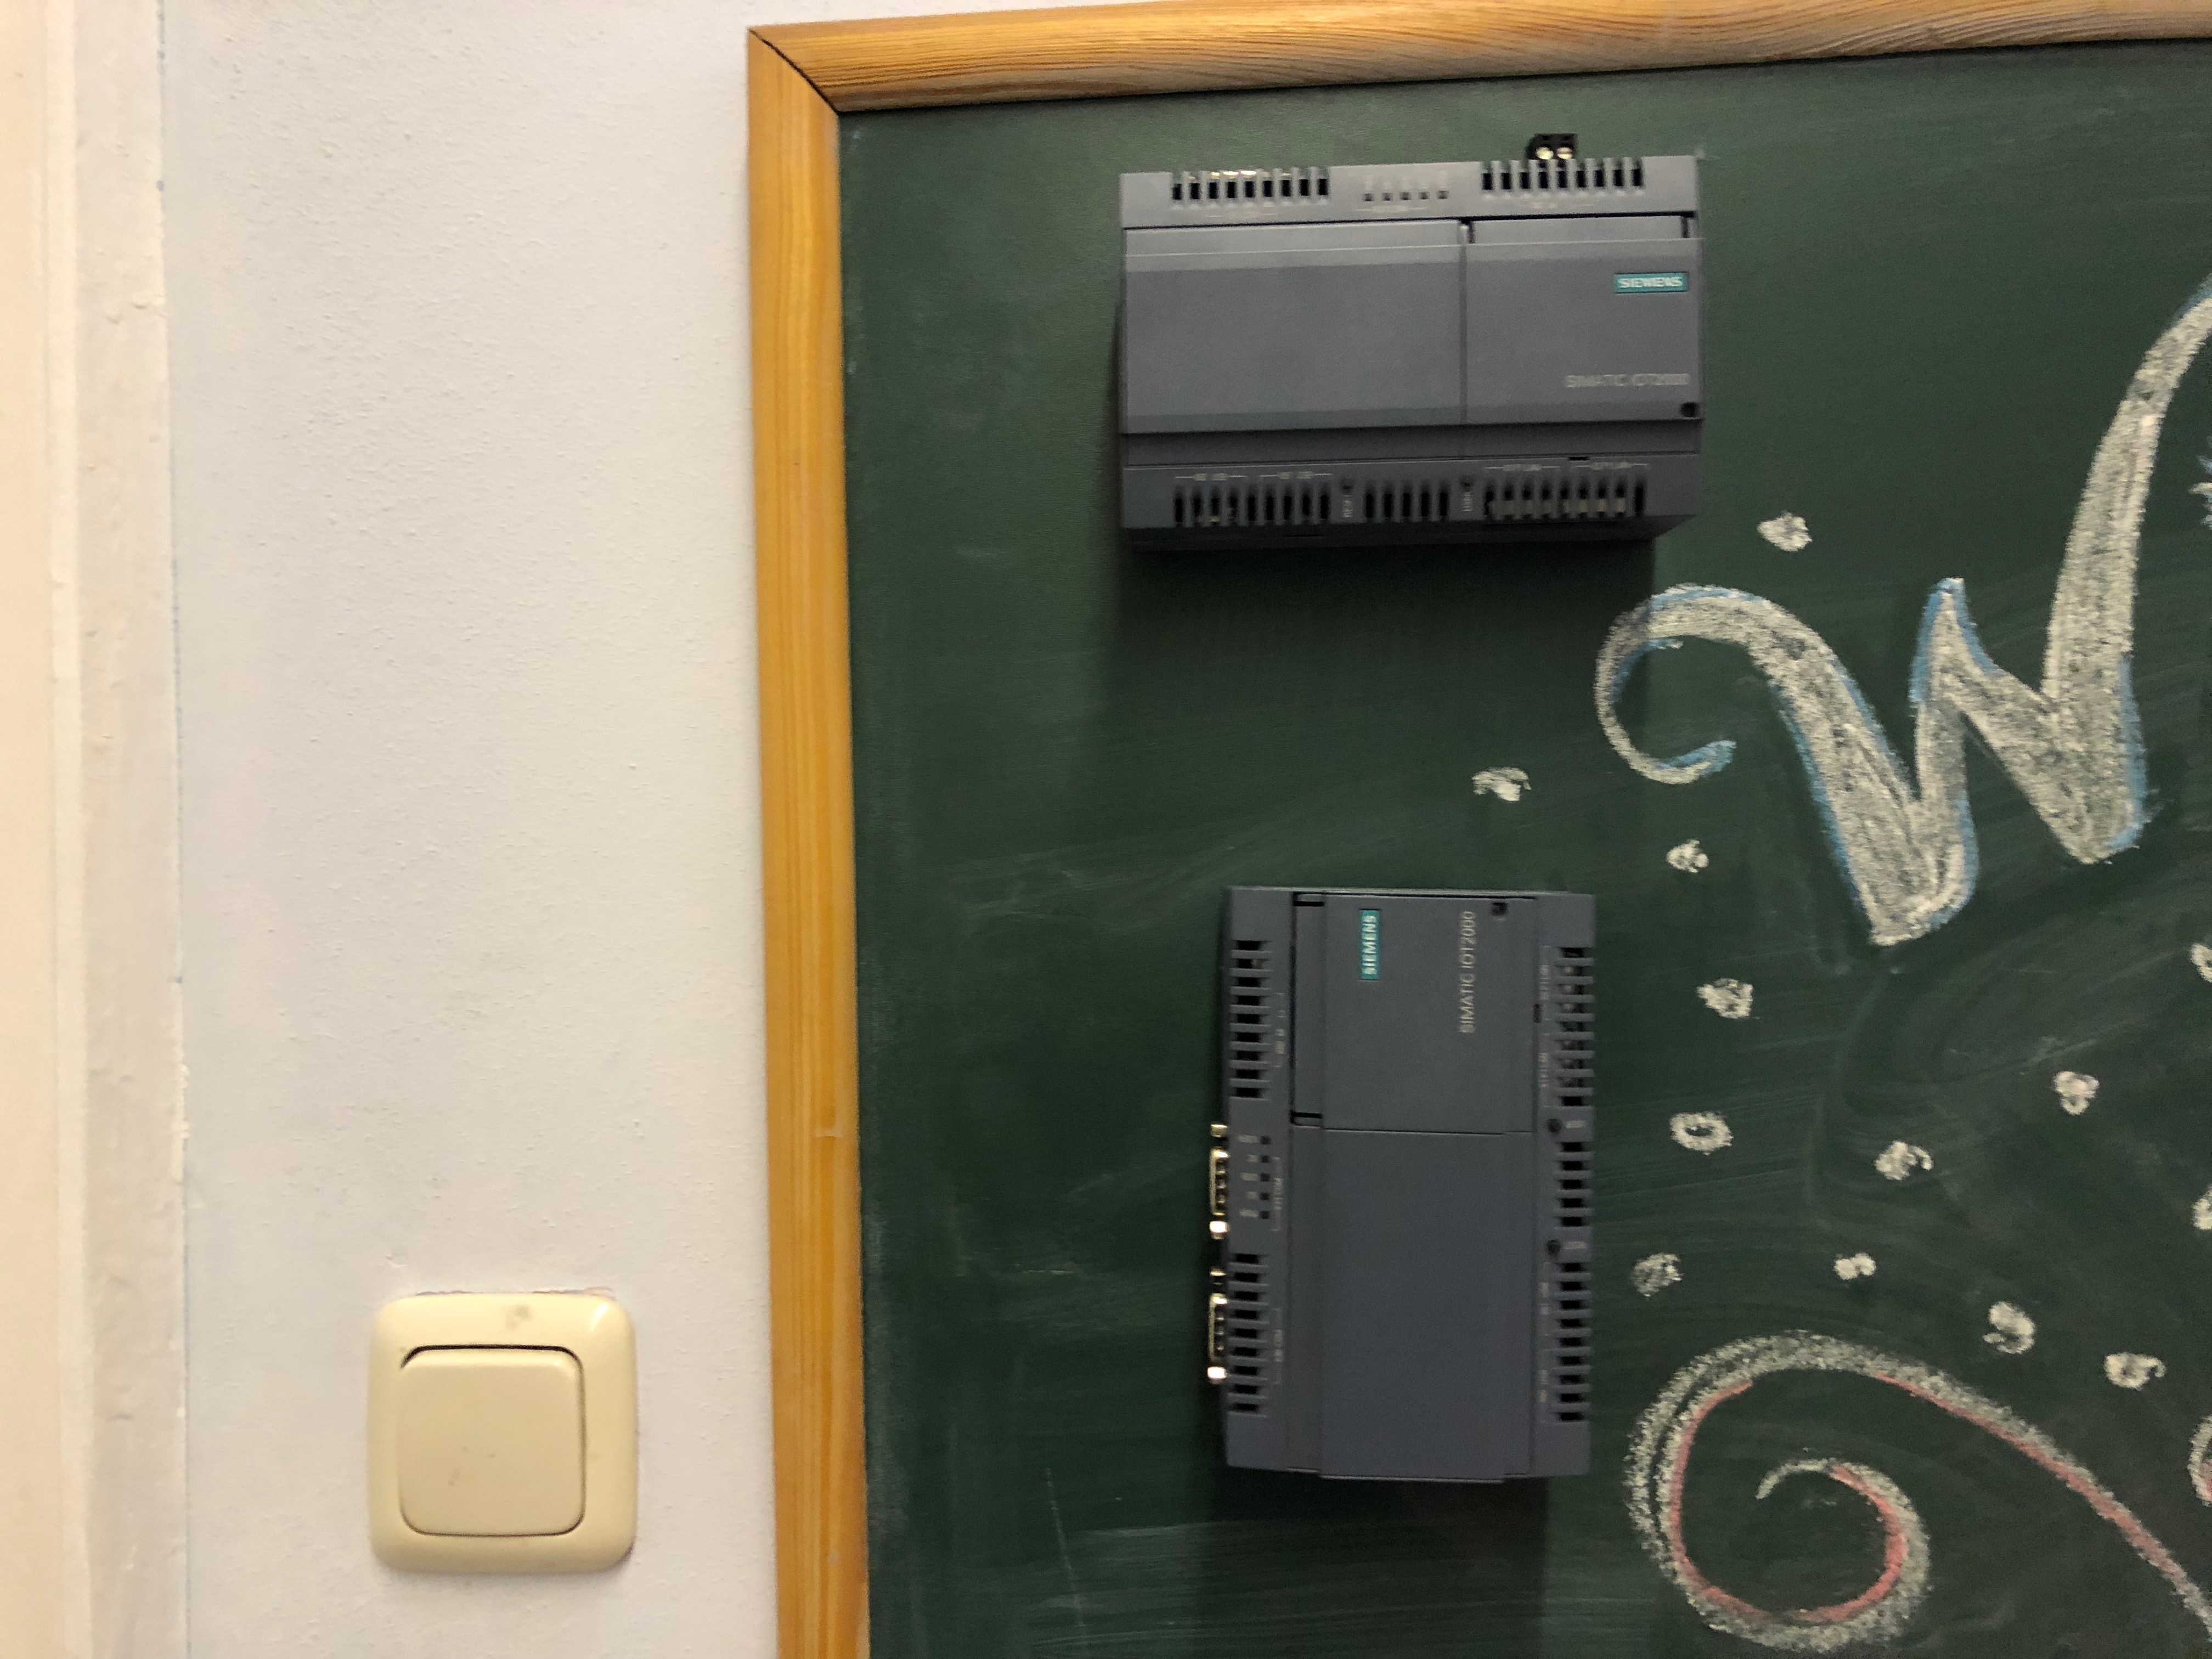device: (1120, 134, 1702, 552), (1207, 885, 1595, 1485)
